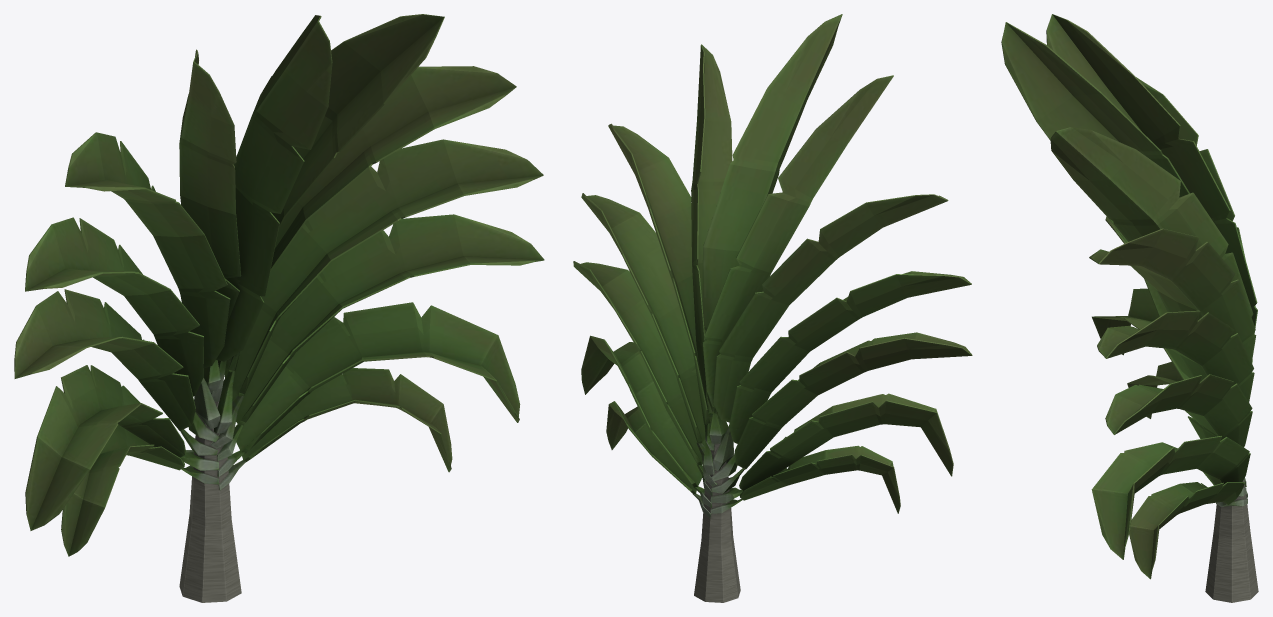
File: Tree-Palm-Triangle-Low-Poly-GB.fbx
3 views of the same model, side by side, from view 1: azimuth 30°, elevation 25°; view 2: azimuth 150°, elevation 25°; view 3: azimuth 270°, elevation 25° (orthographic). The views are drawn at different scales.
Parts seen in each view (by area): view 1: TrianglePalmTree_Mesh; view 2: TrianglePalmTree_Mesh; view 3: TrianglePalmTree_Mesh.
Boxes of the visible parts, x1,y1,x2,y2 form: TrianglePalmTree_Mesh: [14, 14, 544, 602]; TrianglePalmTree_Mesh: [573, 14, 972, 602]; TrianglePalmTree_Mesh: [1001, 14, 1258, 602].
Size of the model in its own units: 305 by 372 by 155.
Materials: 1 (1 with a texture image).
